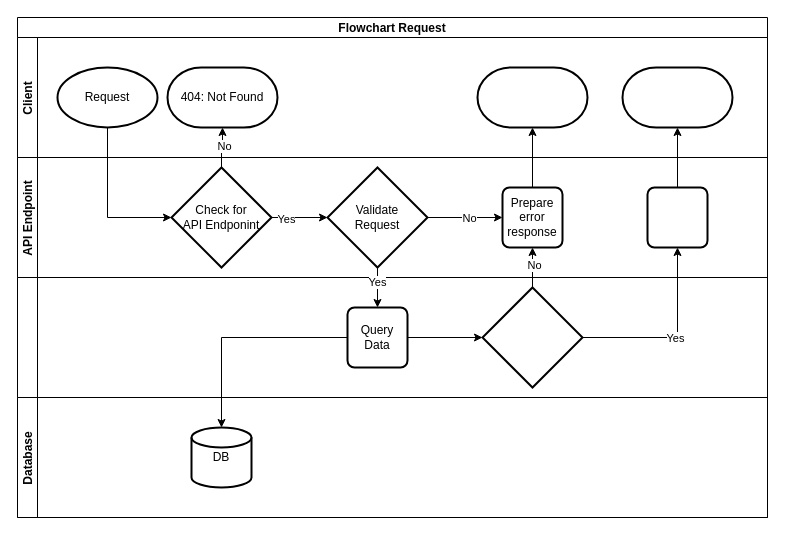
Image size: 785x535. Some labels were removed from this diagram. Here are the shapes that lost their labels. From the top down, the box of each, then its label:
(476, 66, 588, 128): 400: Bad Request
(621, 66, 733, 128): 200: Response
(646, 186, 708, 248): Prepare success response
(16, 276, 768, 398): Data Access Layer
(481, 286, 583, 388): Found Data?
